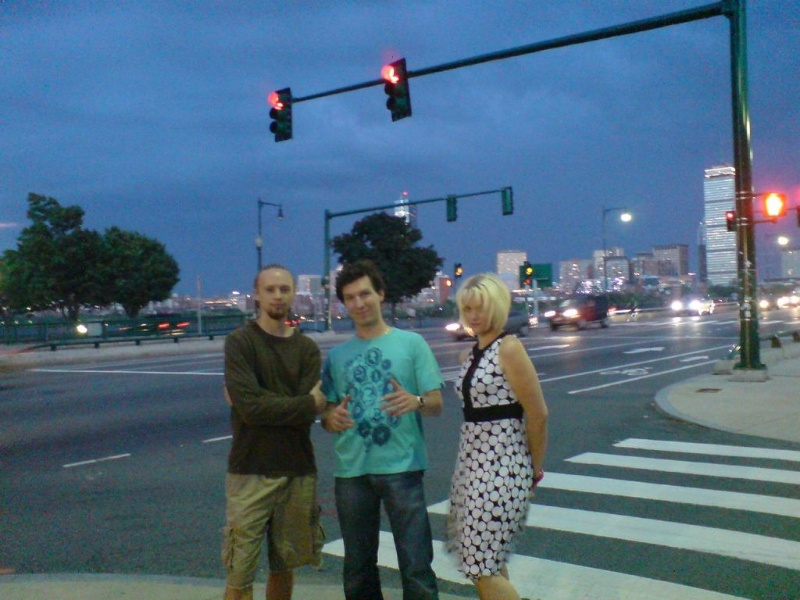red_light: (375, 58, 406, 88), (265, 88, 288, 115)
